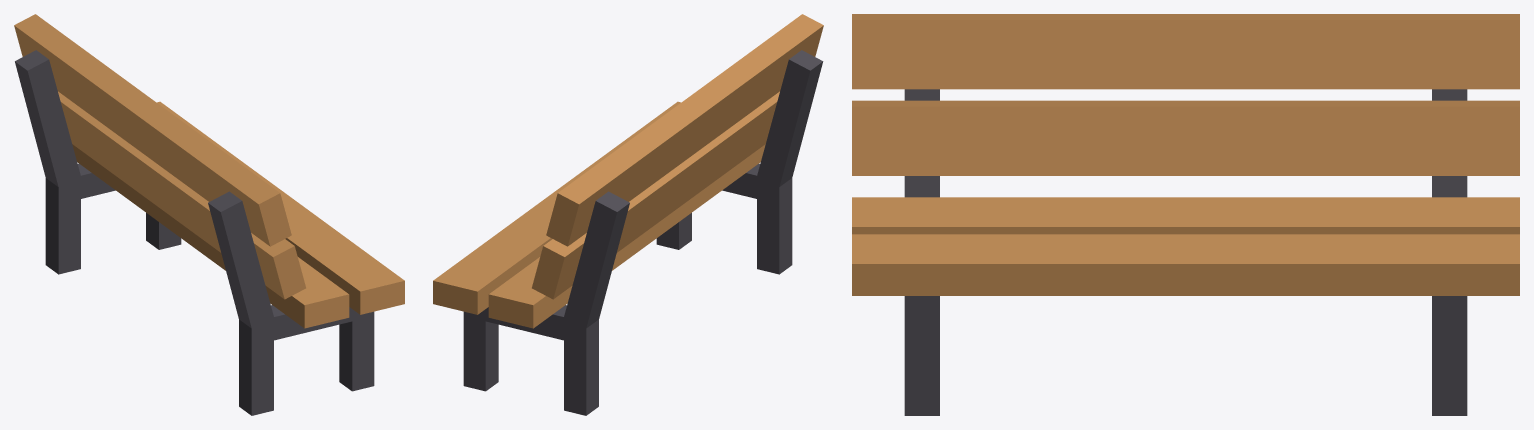
File: SM_Bench.fbx
The picture shows the model from 3 angles, left to right: view 1: azimuth 30°, elevation 25°; view 2: azimuth 150°, elevation 25°; view 3: azimuth 270°, elevation 25°; orthographic projection. The views are drawn at different scales.
Parts seen in each view (by area): view 1: Plane; view 2: Plane; view 3: Plane.
Boxes of the visible parts, x1=… form: Plane: x1=14, y1=14, x2=404, y2=415; Plane: x1=433, y1=14, x2=823, y2=415; Plane: x1=852, y1=14, x2=1519, y2=415.
Bounding box in the file's own units: 92.37 × 126 × 238.
